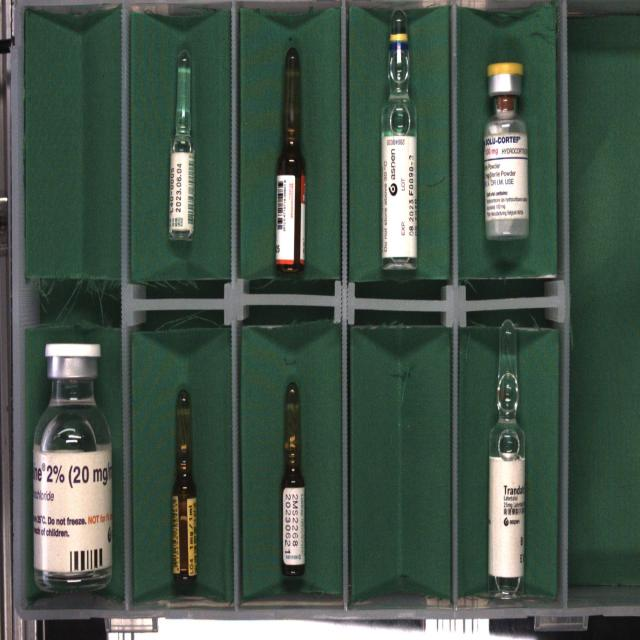Vials: (32, 342, 113, 592), (484, 62, 529, 239)
